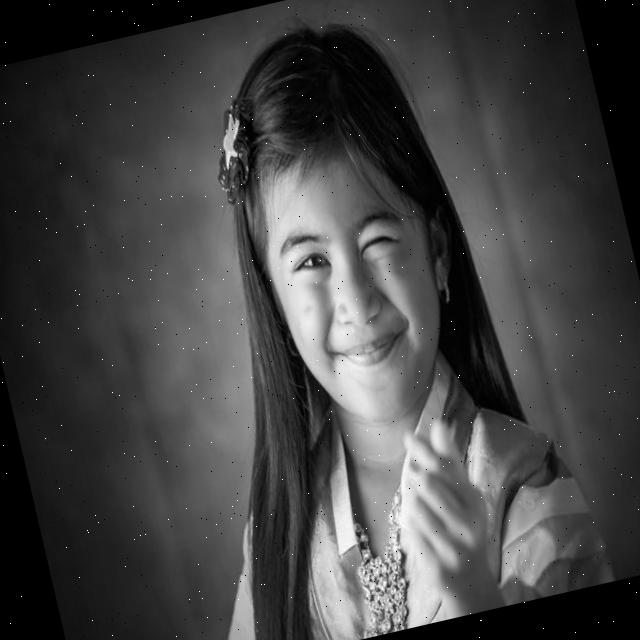Happiness: (242, 130, 468, 440)
